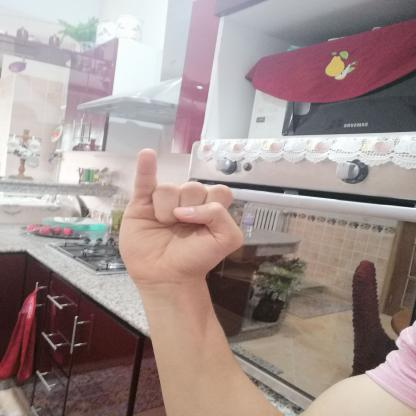MEEM: (102, 140, 255, 294)
